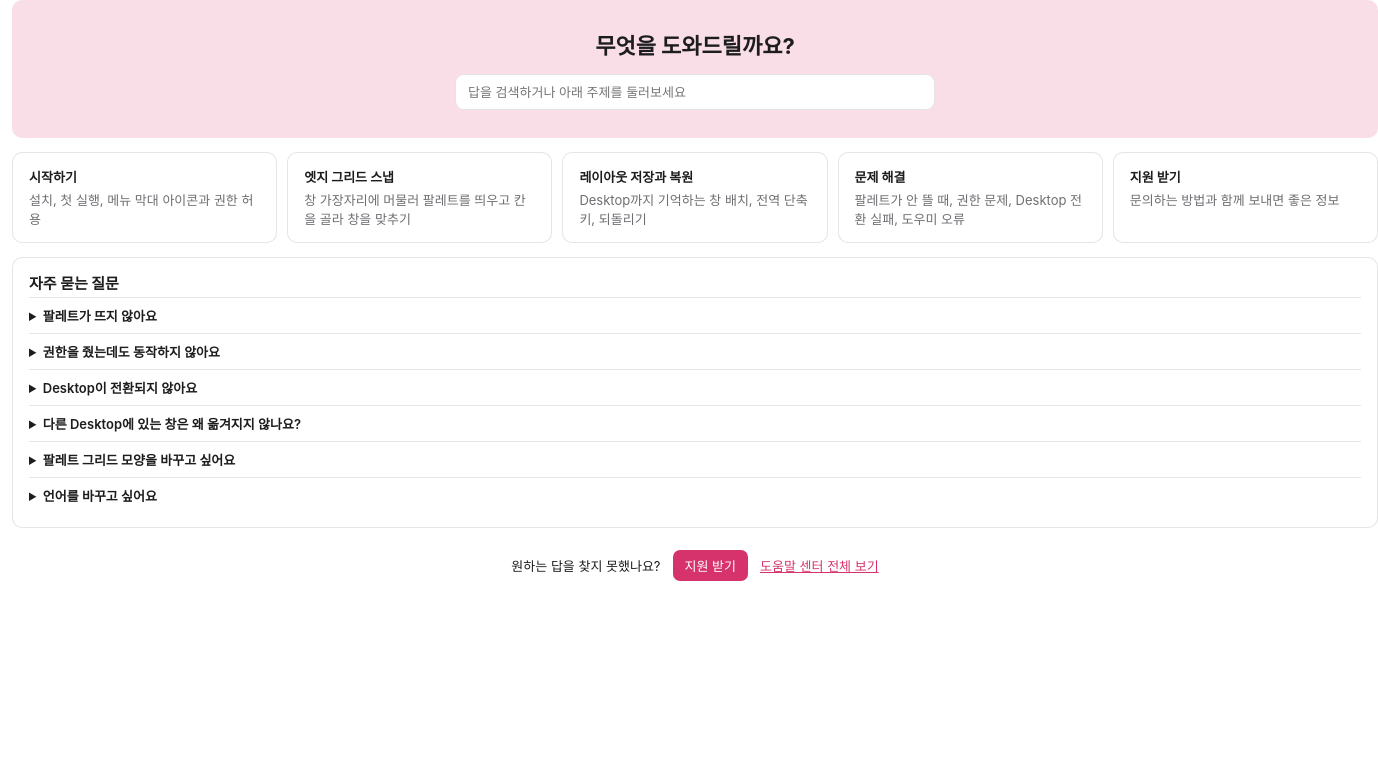
it: HelpTab › links topics to the docs site and filters by search
Type "Mission Control" into the search field named "도움말 검색" at (695, 92), box [455, 74, 935, 110]
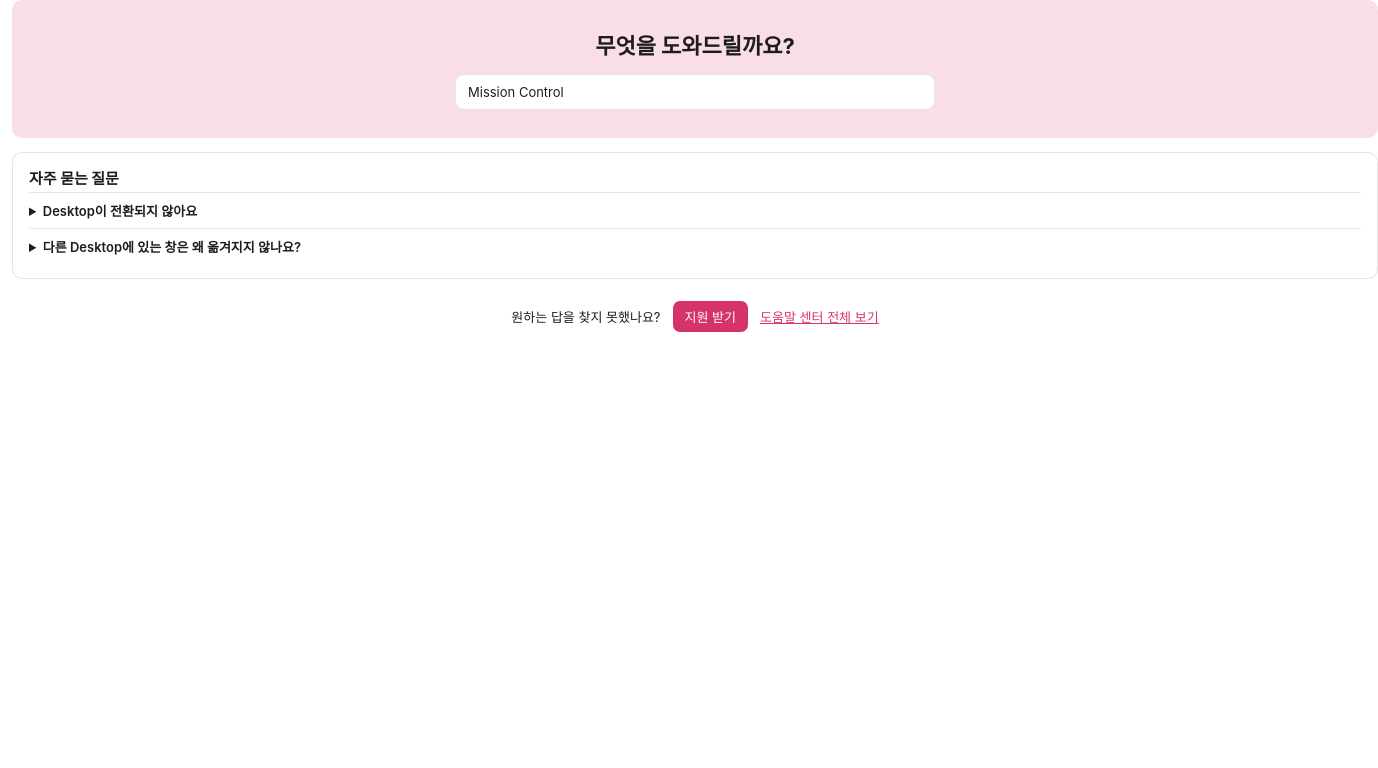
Expected: the heading "Desktop이 전환되지 않아요" is shown, [43, 203, 197, 219]
Result: the link "엣지 그리드 스냅" is gone
Replace the text in the search field with "zzz" at (695, 92), box [455, 74, 935, 110]
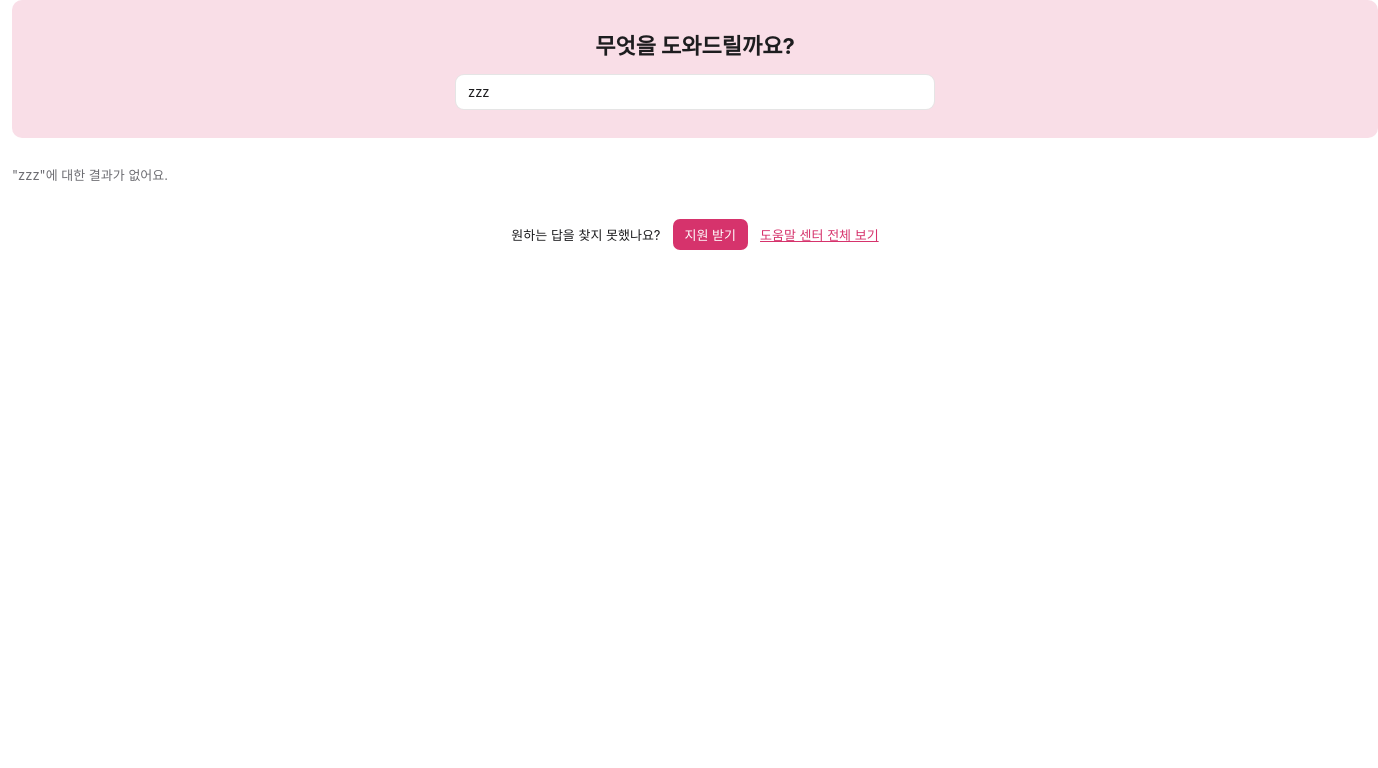
Result: the text "\"zzz\"에 대한 결과가 없어요." is shown at [12, 167, 168, 183]
